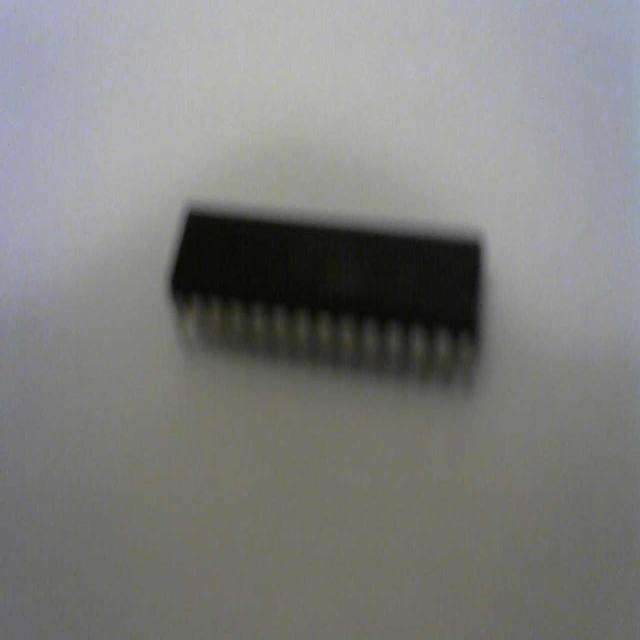atmega: (167, 196, 486, 392)
